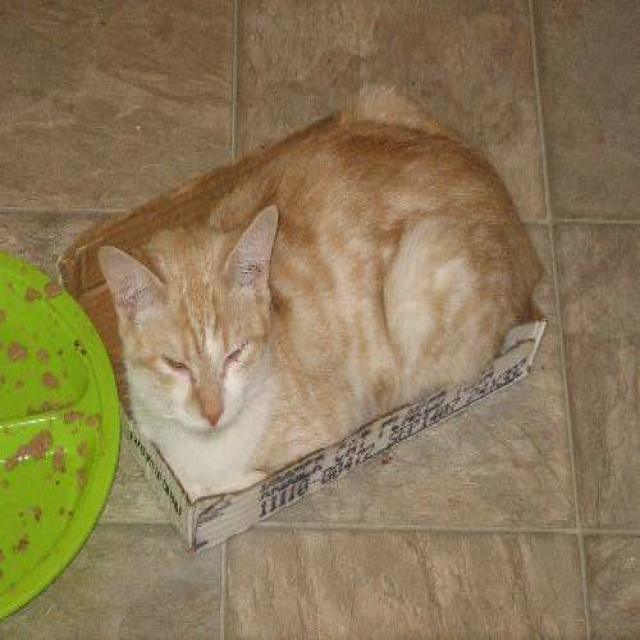cat: (59, 80, 546, 505)
